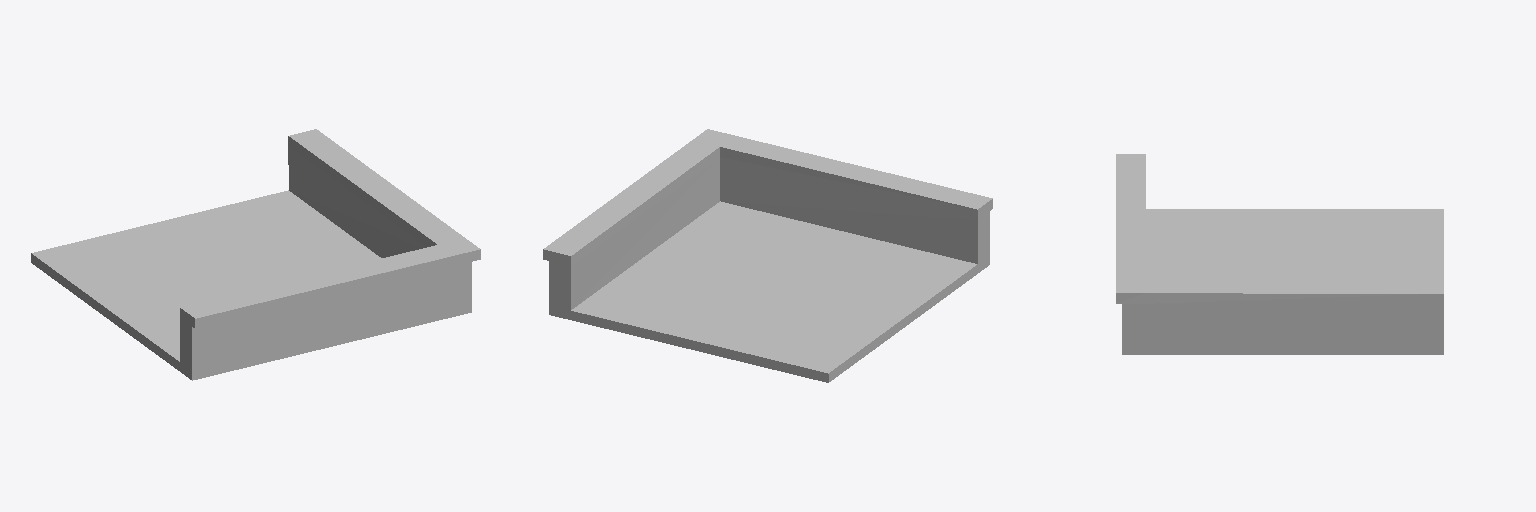
Rendered from roof3_NY.obj.
3 renders of one model, left to right at view 1: azimuth 30°, elevation 25°; view 2: azimuth 150°, elevation 25°; view 3: azimuth 270°, elevation 25°, orthographic.
Parts seen in each view (by area): view 1: Cube.001_Cube.006; view 2: Cube.001_Cube.006; view 3: Cube.001_Cube.006.
Boxes of the visible parts, x1,y1,x2,y2 form: Cube.001_Cube.006: [31, 129, 480, 380]; Cube.001_Cube.006: [543, 129, 992, 382]; Cube.001_Cube.006: [1116, 154, 1443, 354].
Bounding box in the file's own units: 3.34 × 0.7183 × 3.33.